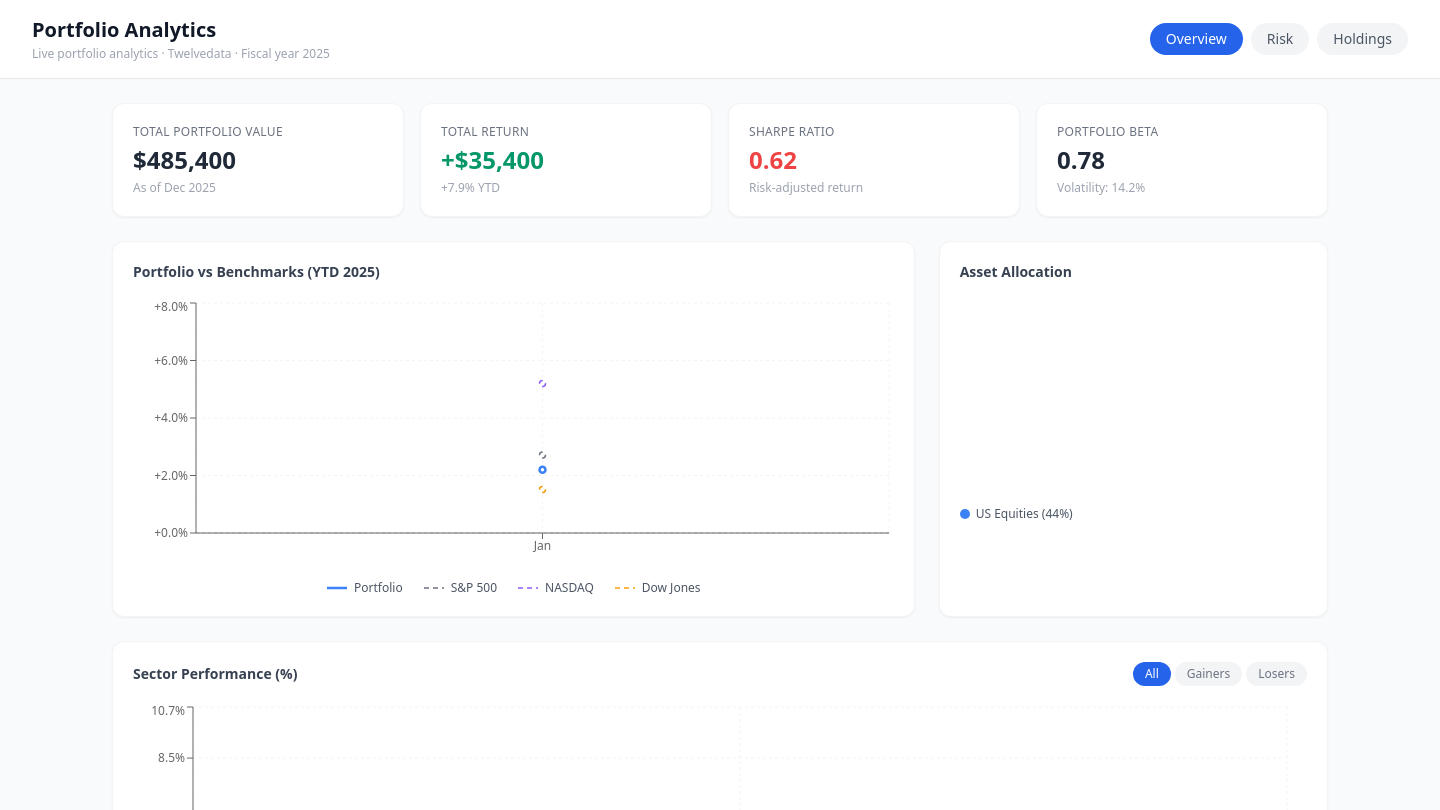
it: App › switches to Holdings tab on click
Click the link "Holdings" at x=1363, y=39, box [1317,23,1408,55]
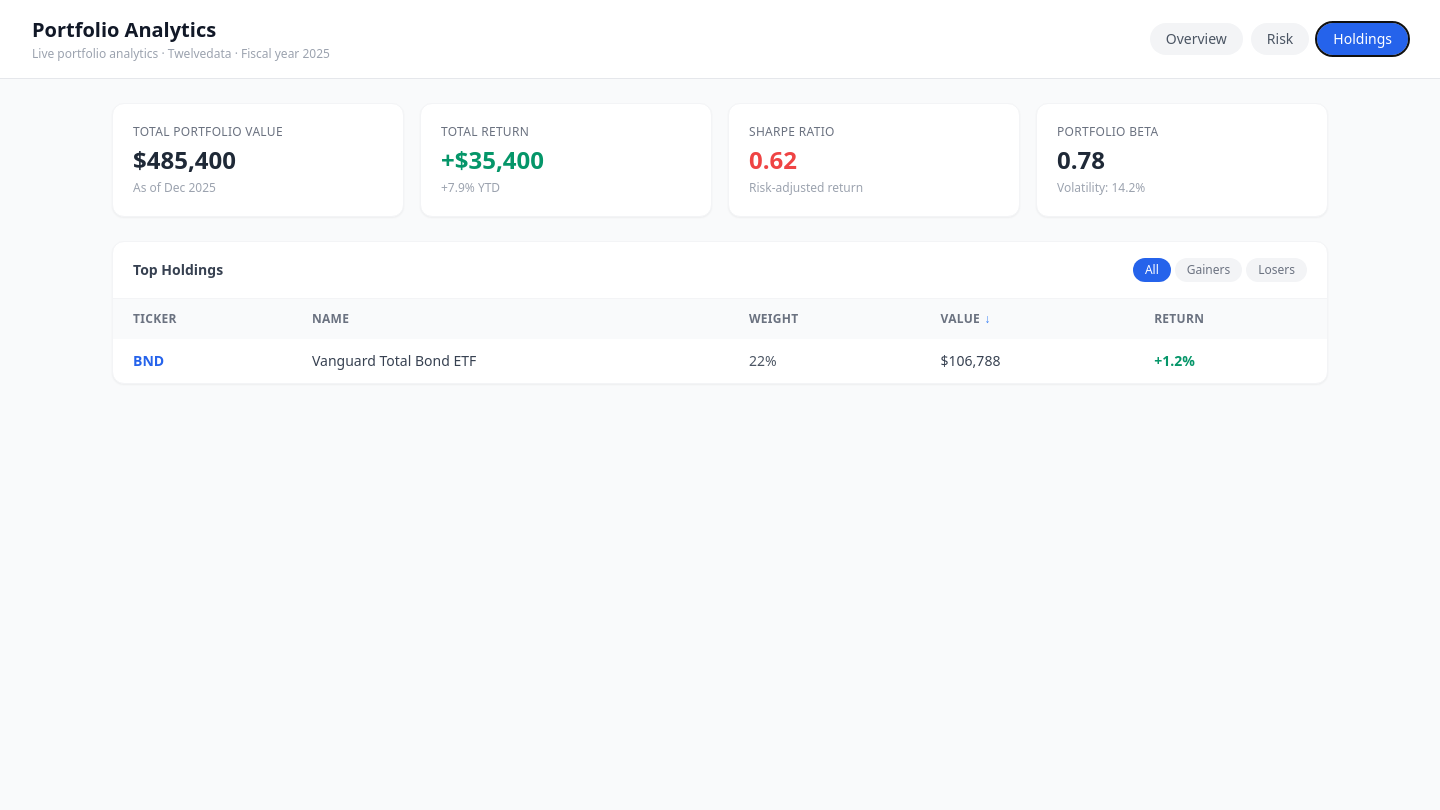
Now the heading "Top Holdings" is shown, box [133,260,223,280]
